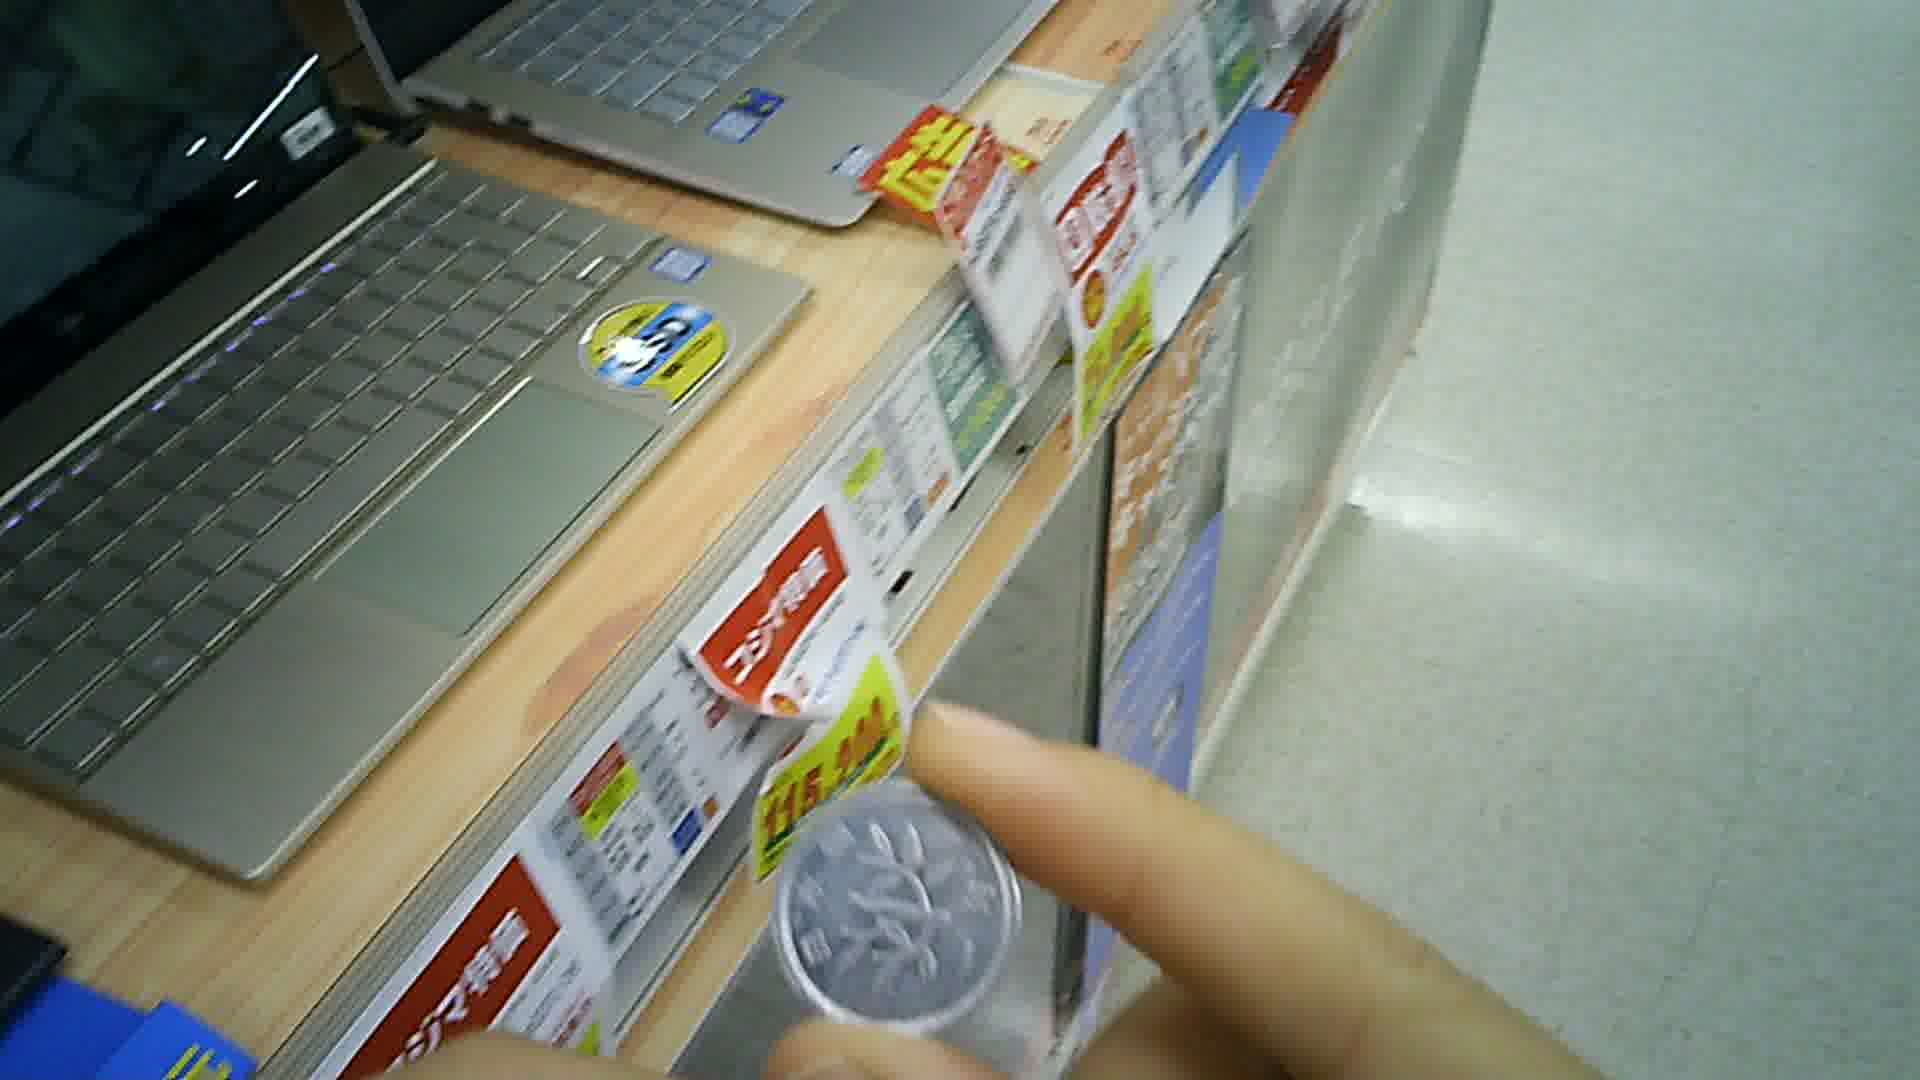1 Yen: (764, 777, 1018, 1027)
